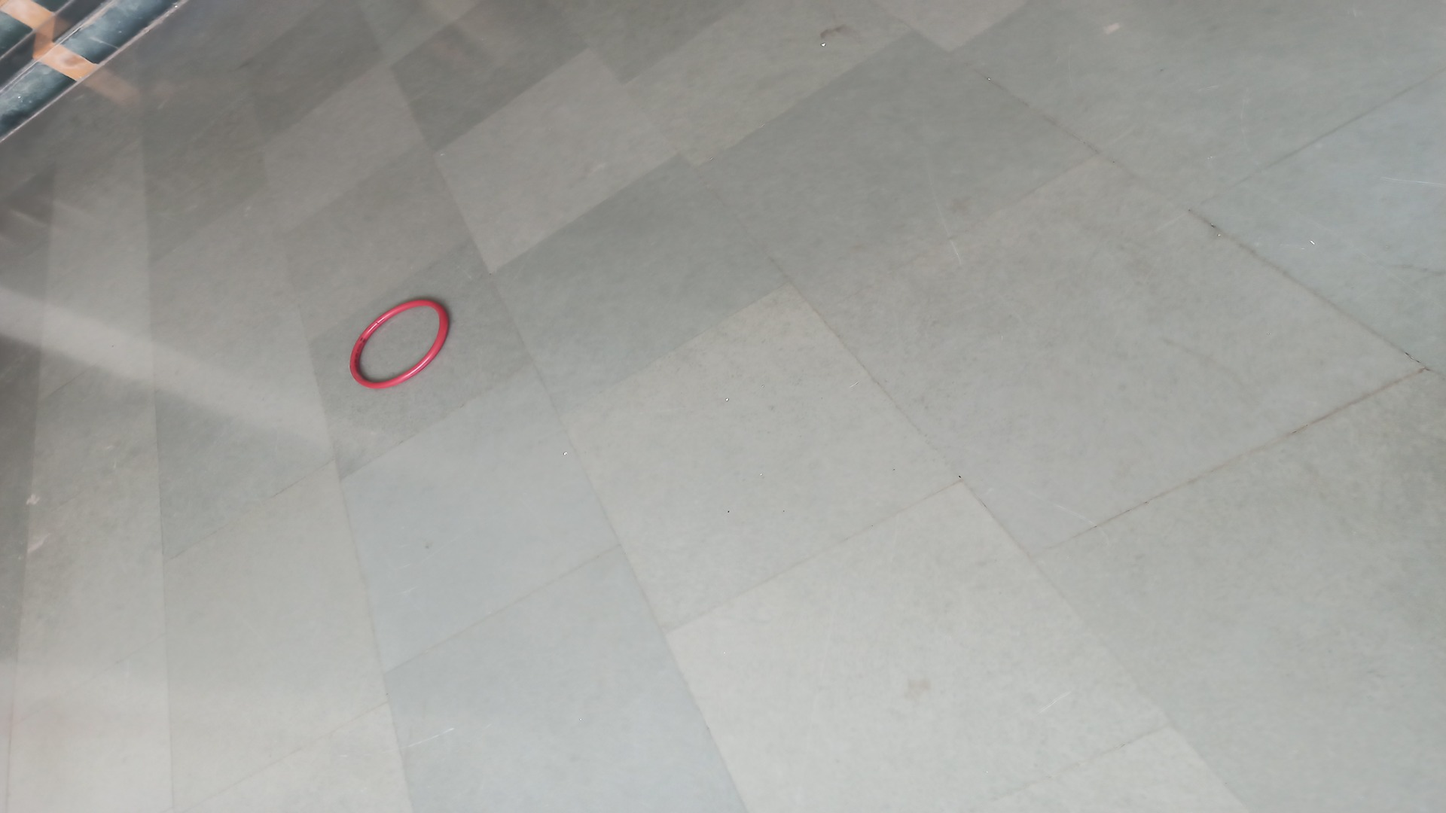Red ring: (347, 297, 451, 390)
